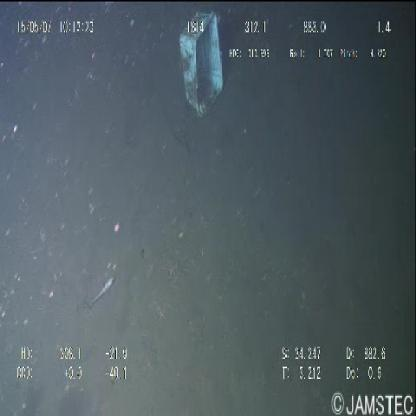Rác: (180, 11, 224, 121)
